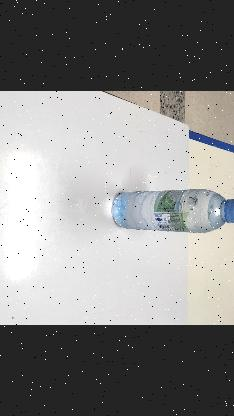Plastic Bottle: (111, 188, 234, 234)
